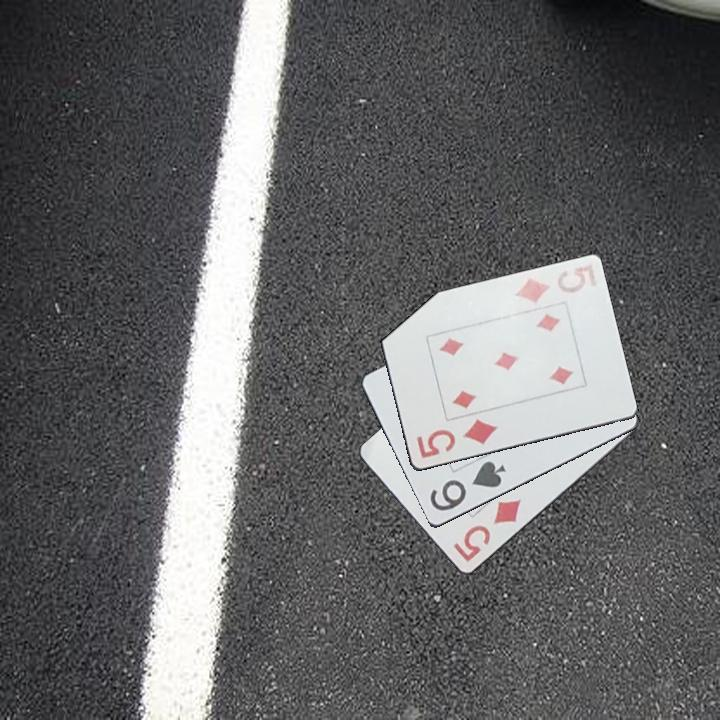5d: (450, 496, 524, 565), (413, 415, 500, 462), (511, 267, 589, 307)
6s: (426, 458, 509, 514)
